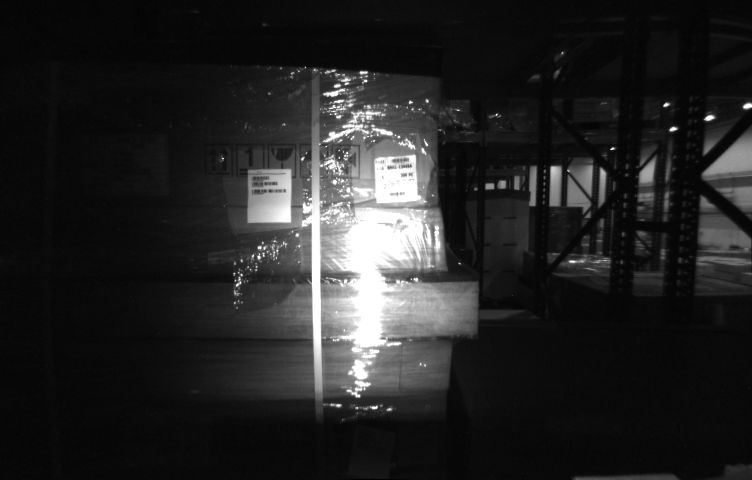True Barcode: (372, 154, 419, 205)
